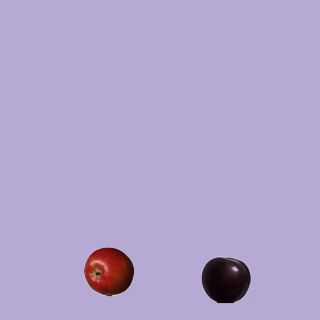Apple Braeburn: (83, 246, 133, 296)
Cherry Wax Black: (200, 254, 250, 304)
